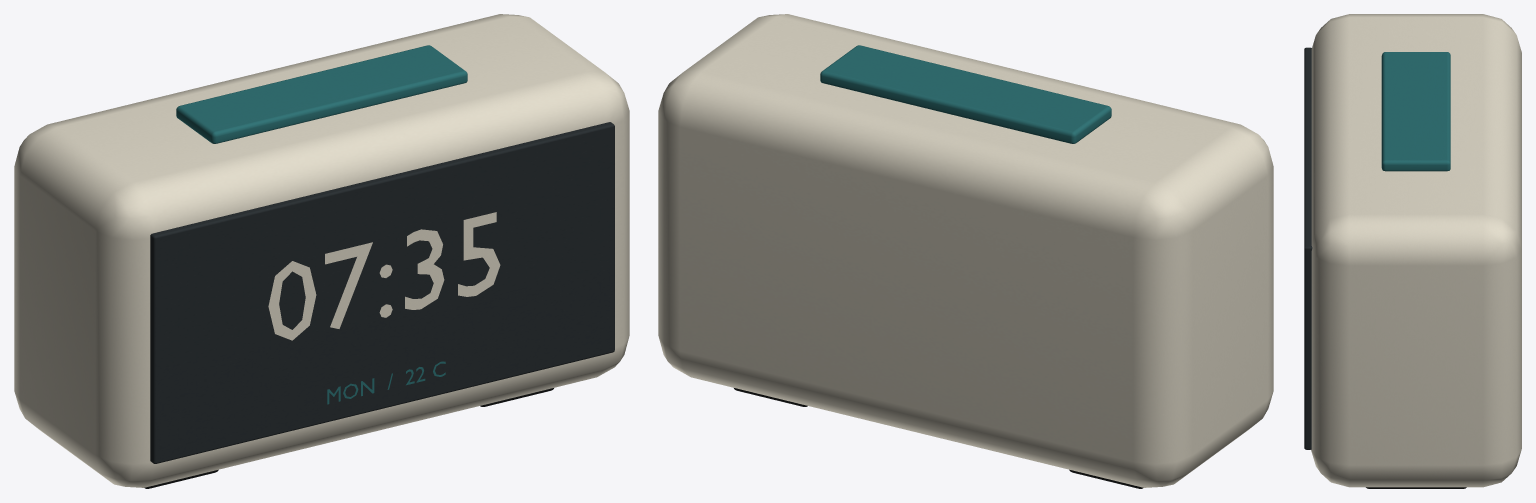
The model's file is clock_01.glb.
3 views of the same model, side by side, from view 1: azimuth 30°, elevation 25°; view 2: azimuth 150°, elevation 25°; view 3: azimuth 270°, elevation 25° (orthographic). The views are drawn at different scales.
Visible parts, largest first — view 1: clock_01; view 2: clock_01; view 3: clock_01.
Boxes of the visible parts, x1=… form: clock_01: x1=14, y1=14, x2=629, y2=488; clock_01: x1=658, y1=14, x2=1273, y2=488; clock_01: x1=1304, y1=14, x2=1521, y2=488.
Bounding box in the file's own units: 0.126 × 0.0755 × 0.051.
4 materials, 4 textured.
